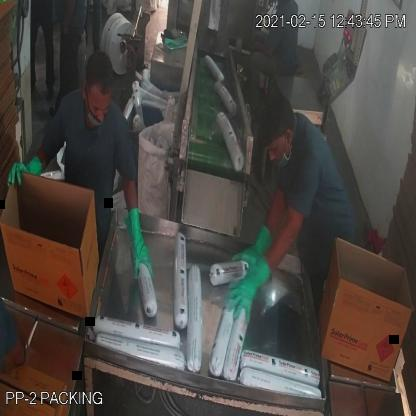glove: (219, 256, 278, 327), (119, 196, 155, 283), (2, 156, 48, 192)
no_glove: (241, 31, 274, 69)
